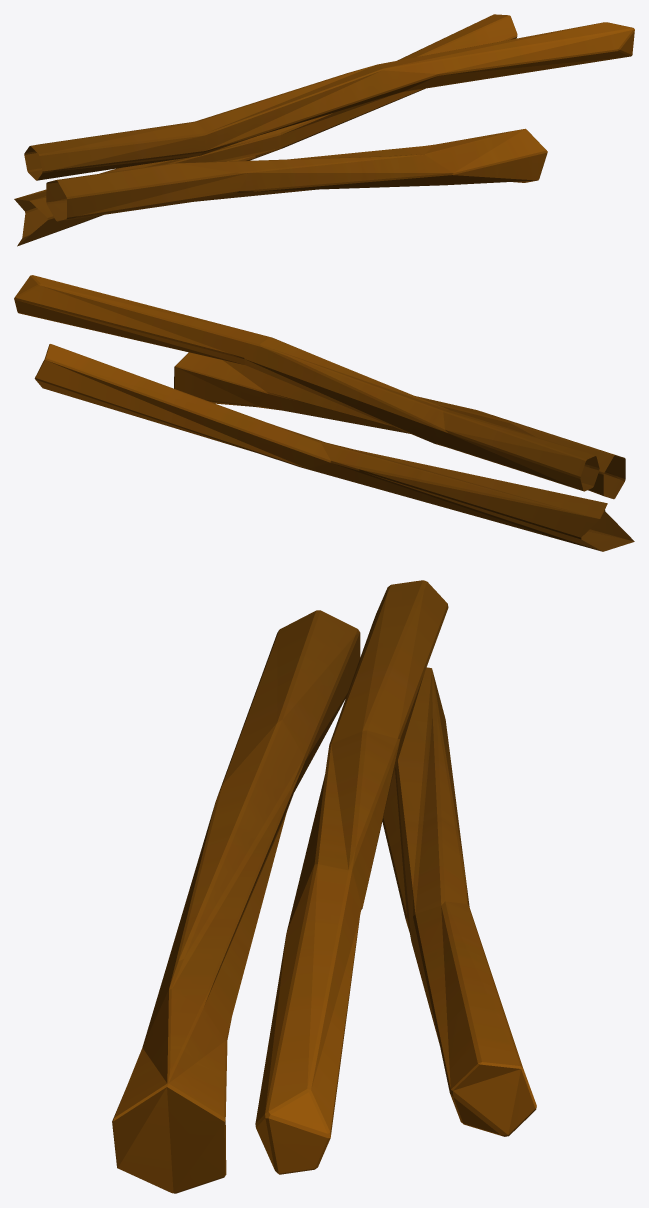
File: twigs.glb
3 views of the same model, one above another, from view 1: azimuth 30°, elevation 25°; view 2: azimuth 150°, elevation 25°; view 3: azimuth 270°, elevation 25° (orthographic). The views are drawn at different scales.
Visible parts, largest first — view 1: Wooden Sticks_2_A; view 2: Wooden Sticks_2_A; view 3: Wooden Sticks_2_A.
Boxes of the visible parts, x1,y1,x2,y2 form: Wooden Sticks_2_A: (14, 14, 634, 246); Wooden Sticks_2_A: (14, 275, 634, 551); Wooden Sticks_2_A: (112, 580, 536, 1193).
Bounding box in the file's own units: 0.55 × 0.1 × 0.17.
1 material, 1 textured.
